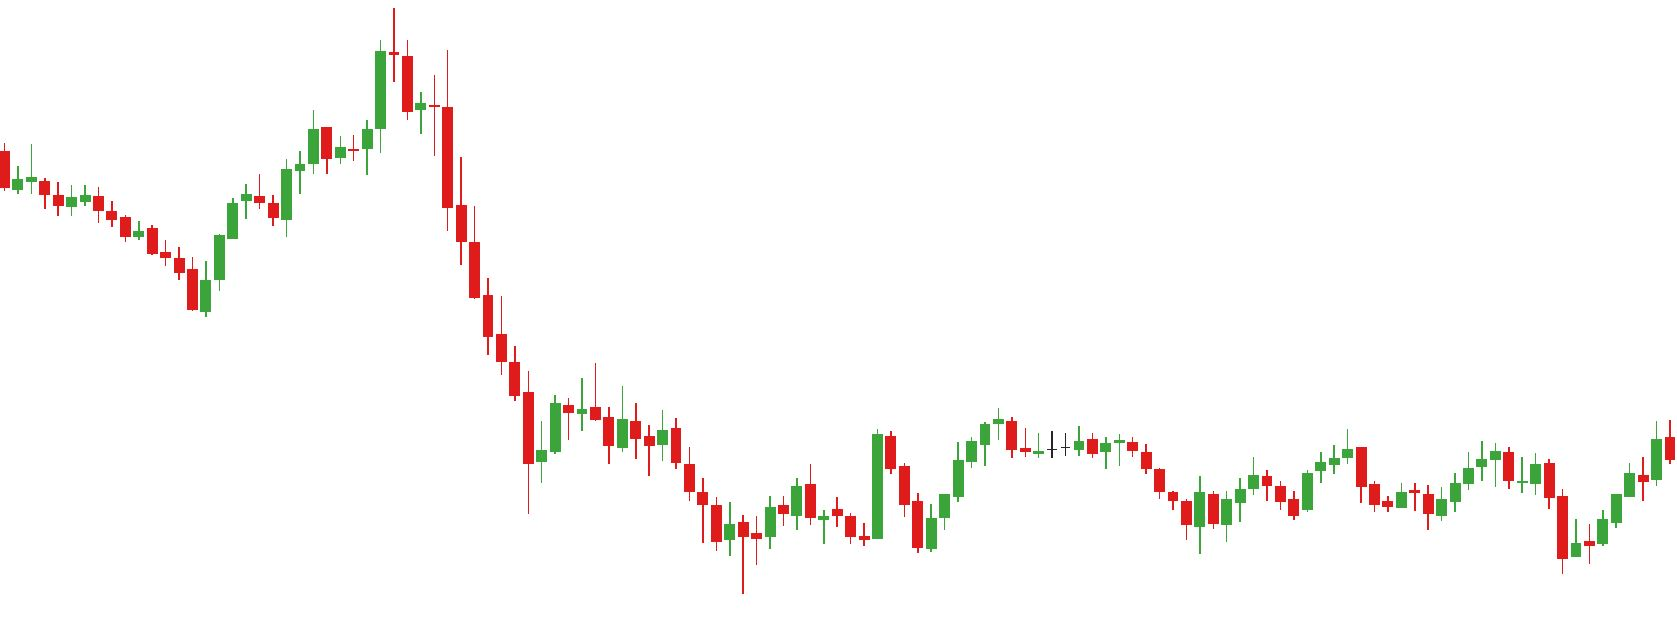buy: (846, 470, 938, 559)
